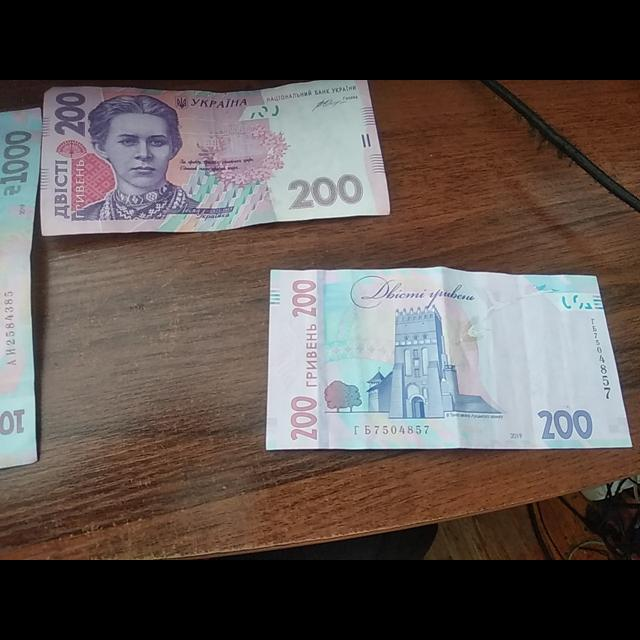1000uah: (0, 108, 40, 469)
200uah: (265, 267, 634, 449), (43, 80, 390, 235)
